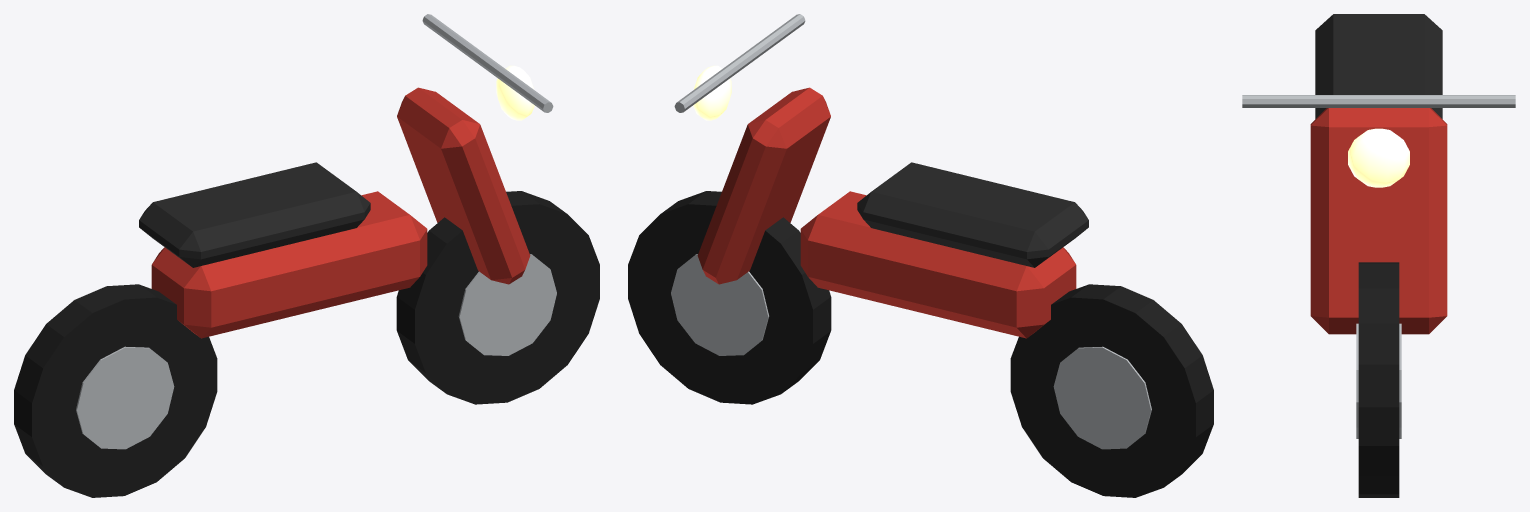
The model's file is motorbike.glb.
3 views of the same model, side by side, from view 1: azimuth 30°, elevation 25°; view 2: azimuth 150°, elevation 25°; view 3: azimuth 270°, elevation 25° (orthographic). The views are drawn at different scales.
Visible parts, largest first — view 1: motorbike; view 2: motorbike; view 3: motorbike.
Boxes of the visible parts, x1,y1,x2,y2 form: motorbike: (14,14,599,497); motorbike: (628,14,1213,497); motorbike: (1242,14,1515,497).
Size of the model in its own units: 1.63 by 0.935 by 0.6.
